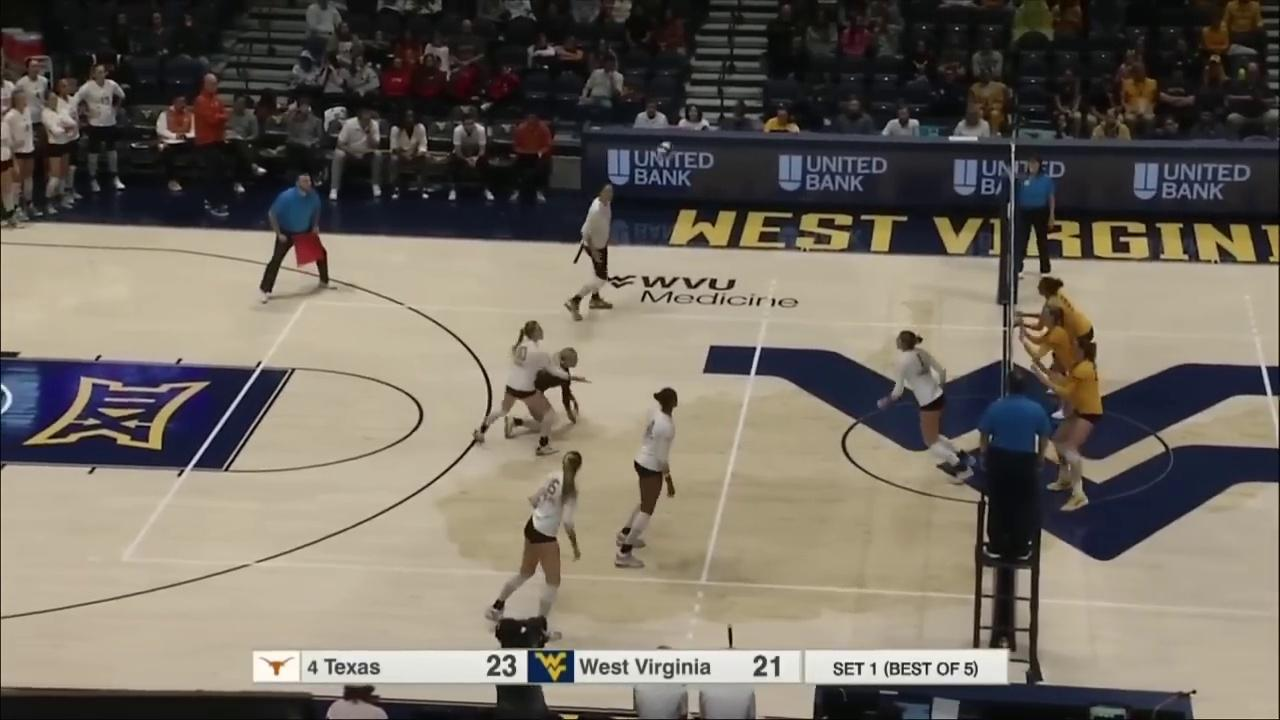player: (483, 451, 583, 641), (878, 330, 975, 481), (1030, 340, 1101, 513), (471, 319, 559, 454), (615, 387, 677, 571), (1017, 278, 1095, 417), (1019, 308, 1085, 453), (565, 184, 615, 317), (504, 349, 579, 437)
refree: (981, 370, 1049, 557), (255, 173, 338, 302), (1011, 157, 1057, 278)
